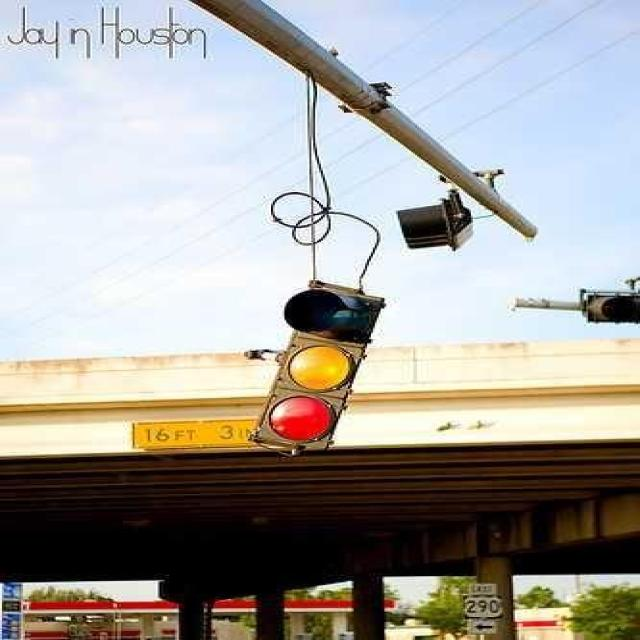Traffic Light -Off-: (264, 282, 385, 453)
